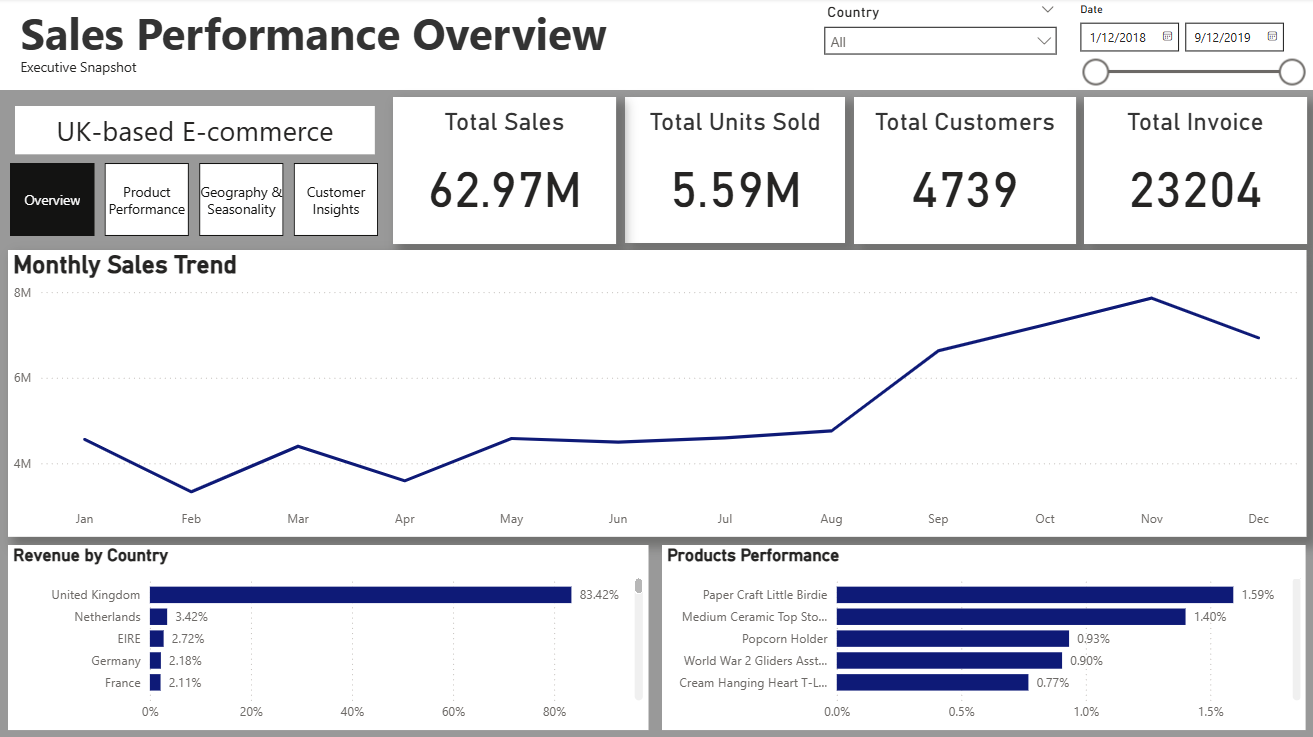

The page's visual inventory and layout, read from the dashboard file:
{"tool":"powerbi","page":{"name":" Overview ","canvas":[1280,720],"ordinal":0},"visuals":[{"type":"slicer","fields":{"Values":["Calendar.Date"]},"box":[1038.8,0,240.5,88.9],"z":0},{"type":"shape","box":[0,238.5,1279.3,482],"z":1000},{"type":"shape","box":[0,89.1,1279.7,156.4],"z":2000},{"type":"textbox","box":[0,9.4,375.7,51.1],"z":3000},{"type":"textbox","box":[0,44.9,240,31.3],"z":4000},{"type":"card","title":"Total Units Sold","fields":{"Values":["Product._CompletedProductUnitsSold"]},"box":[609.3,96,214.2,142.5],"z":5000},{"type":"card","title":"Total Customers","fields":{"Values":["Count(SalesTransaction.CustomerID)"]},"box":[831.3,96,215.8,142.5],"z":6000},{"type":"card","title":"Total Transactions","fields":{"Values":["SalesTransaction._TotalTransactions"]},"box":[1055,96,216.7,142.5],"z":7000},{"type":"card","title":"Total Sales","fields":{"Values":["SalesTransaction._CompletedSalesValue"]},"box":[383,96,216.7,142.5],"z":8000},{"type":"lineChart","title":"Monthly Sales Trend","fields":{"Category":["Calendar.Month"],"Y":["Product._CompletedProductSalesValue"]},"box":[8.9,245.4,1262.8,279.1],"z":9000},{"type":"clusteredBarChart","title":"Revenue by Country","fields":{"Category":["SalesTransaction.Country"],"Y":["SalesTransaction._NetSales"]},"box":[8.9,532.5,622.5,180.1],"z":10000},{"type":"textbox","box":[15.8,104.9,350.4,46.5],"z":11000},{"type":"clusteredBarChart","title":"Products Performance","fields":{"Category":["SalesTransaction.ProductName"],"Y":["SalesTransaction._NetSales"]},"box":[645.3,532.5,626.5,180.1],"z":12000},{"type":"pageNavigator","box":[10.9,160.3,360.2,71.3],"z":13000},{"type":"slicer","fields":{"Values":["SalesTransaction.Country"]},"box":[792.7,0,246.4,89.1],"z":14000}]}

Visuals, with their boxes in screenshot pixels (x1, y1, x2, y2), scaled from the page's 1280x720 canvas onto the 1313x737 screenshot:
slicer - Calendar.Date: 1066/0/1312/91
shape: 0/244/1312/736
shape: 0/91/1312/251
textbox: 0/10/385/62
textbox: 0/46/246/78
"Total Units Sold" card: 625/98/845/244
"Total Customers" card: 853/98/1074/244
"Total Transactions" card: 1082/98/1304/244
"Total Sales" card: 393/98/615/244
"Monthly Sales Trend" lineChart: 9/251/1304/537
"Revenue by Country" clusteredBarChart: 9/545/648/729
textbox: 16/107/376/155
"Products Performance" clusteredBarChart: 662/545/1305/729
pageNavigator: 11/164/381/237
slicer - SalesTransaction.Country: 813/0/1066/91
